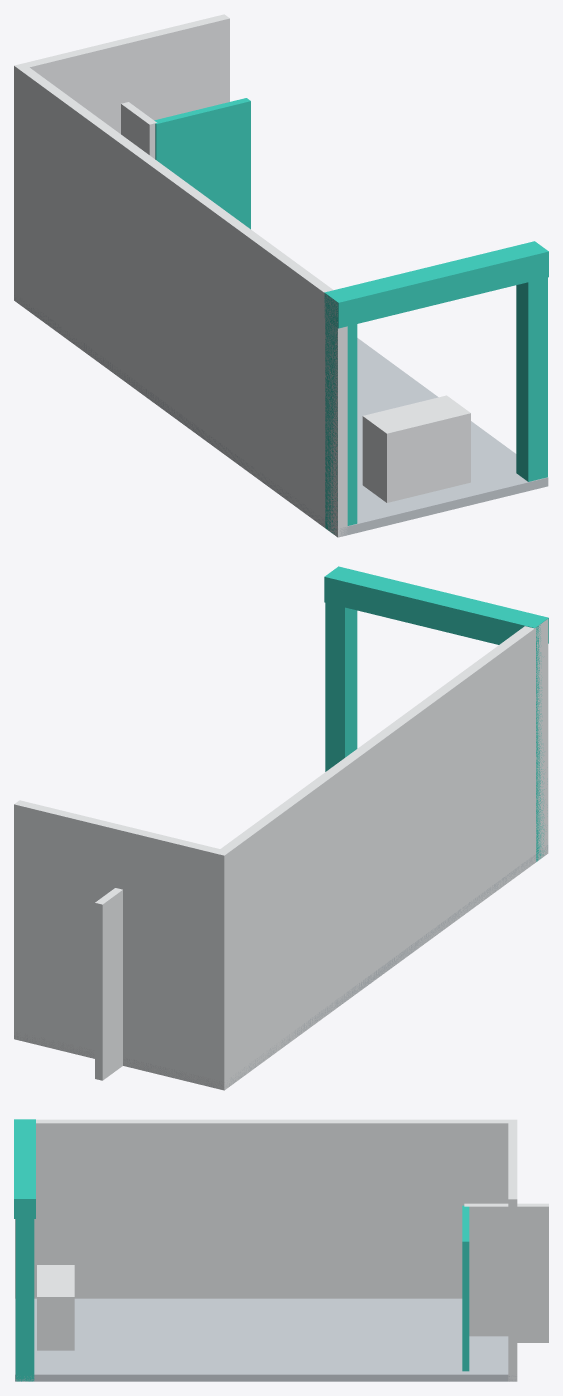
3 renders of one model, top to bottom at view 1: azimuth 30°, elevation 25°; view 2: azimuth 150°, elevation 25°; view 3: azimuth 270°, elevation 25°, orthographic. The views are drawn at different scales.
Parts seen in each view (by area): view 1: Exhibition Booth Concept; view 2: Exhibition Booth Concept; view 3: Exhibition Booth Concept.
Boxes of the visible parts, x1,y1,x2,y2 form: Exhibition Booth Concept: (14,14,548,537); Exhibition Booth Concept: (14,566,548,1090); Exhibition Booth Concept: (14,1119,548,1381).
Bounding box in the file's own units: 3 × 3.2 × 8.52.
